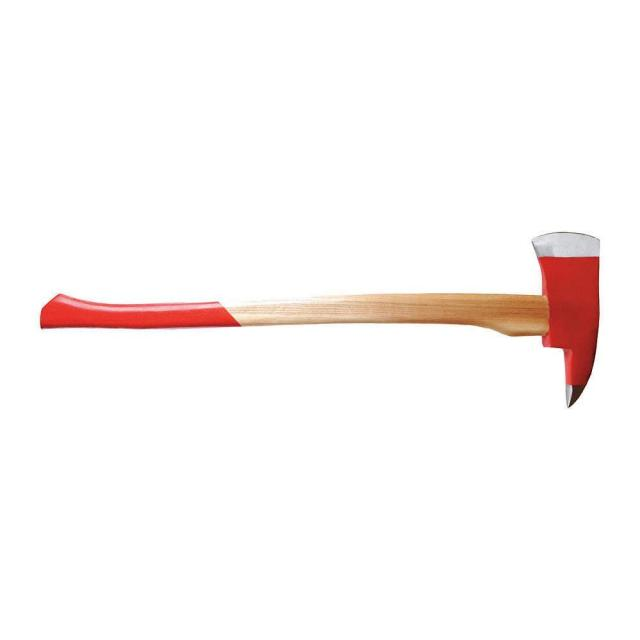Kapak: (24, 221, 618, 411)
